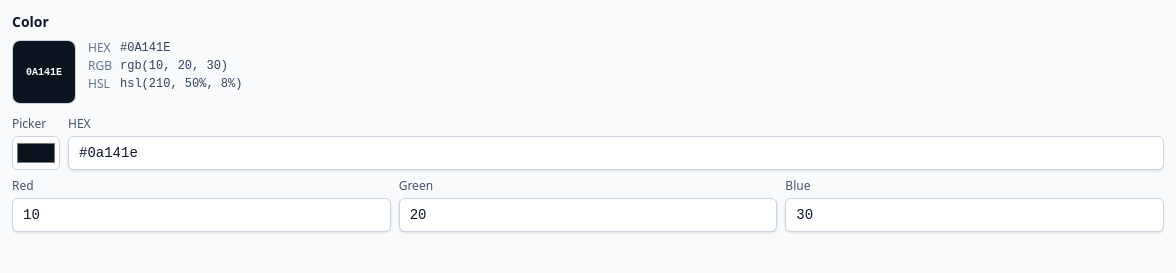
Scenario: ColorField › edits individual RGB channels with validation
The image size is (1176, 273).
Replace the text in the number field labelled "Green" with "200": [588, 215] box [399, 198, 777, 232]
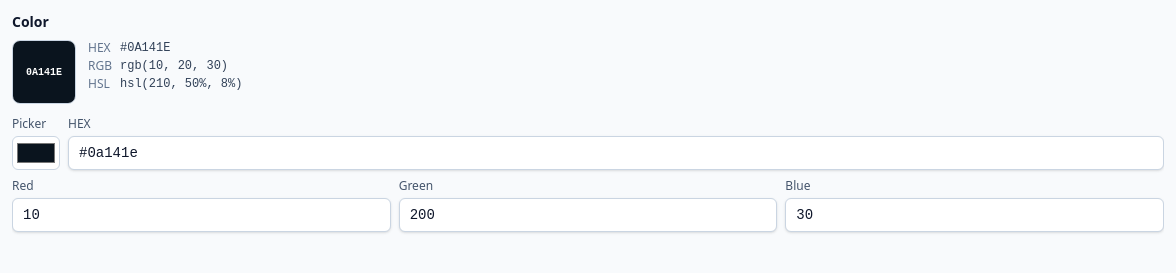
Replace the text in the number field labelled "Green" with "256": [588, 215] box [399, 198, 777, 232]
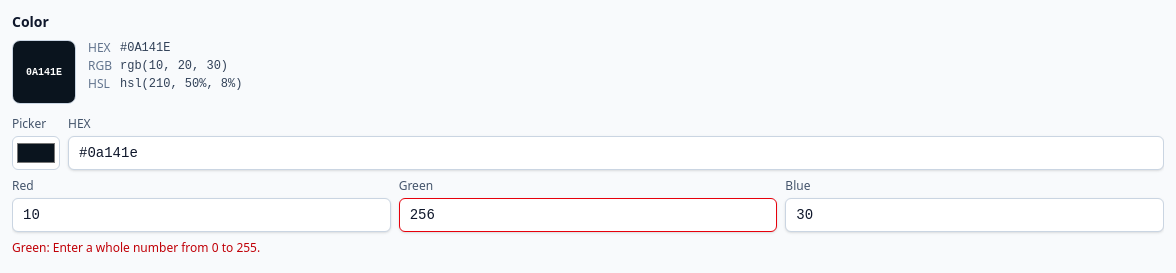
Check: the message shows "0 to 255", box [53, 239, 260, 256]
